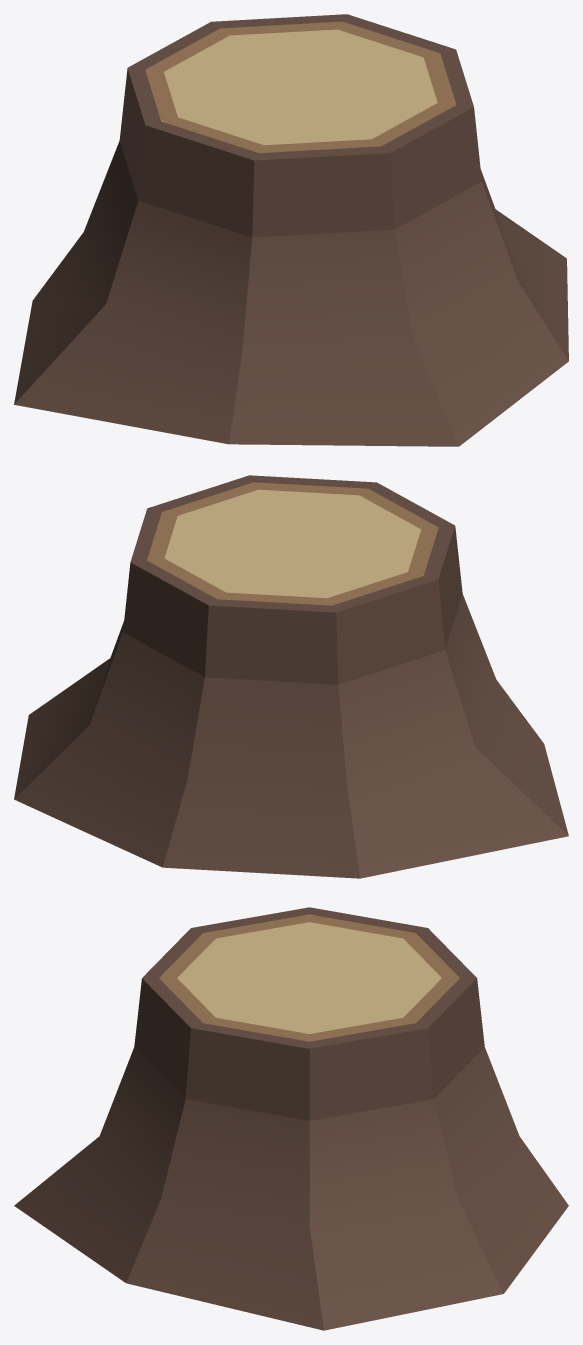
File: atoll_treeStump.fbx
The picture shows the model from 3 angles, top to bottom: view 1: azimuth 30°, elevation 25°; view 2: azimuth 150°, elevation 25°; view 3: azimuth 270°, elevation 25°; orthographic projection. The views are drawn at different scales.
Visible parts, largest first — view 1: pCylinder1; view 2: pCylinder1; view 3: pCylinder1.
Boxes of the visible parts, <box> form: pCylinder1: <box>14,14,568,446</box>; pCylinder1: <box>14,475,568,878</box>; pCylinder1: <box>14,907,568,1330</box>.
Size of the model in its own units: 250 by 103 by 228.
